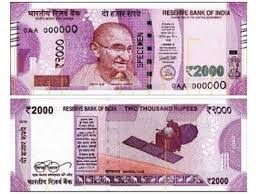twoThousand: (23, 18, 236, 80)
